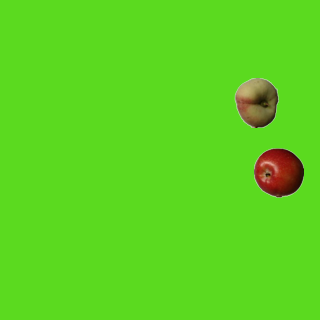Apple Braeburn: (253, 147, 303, 197)
Peach Flat: (231, 77, 281, 127)
